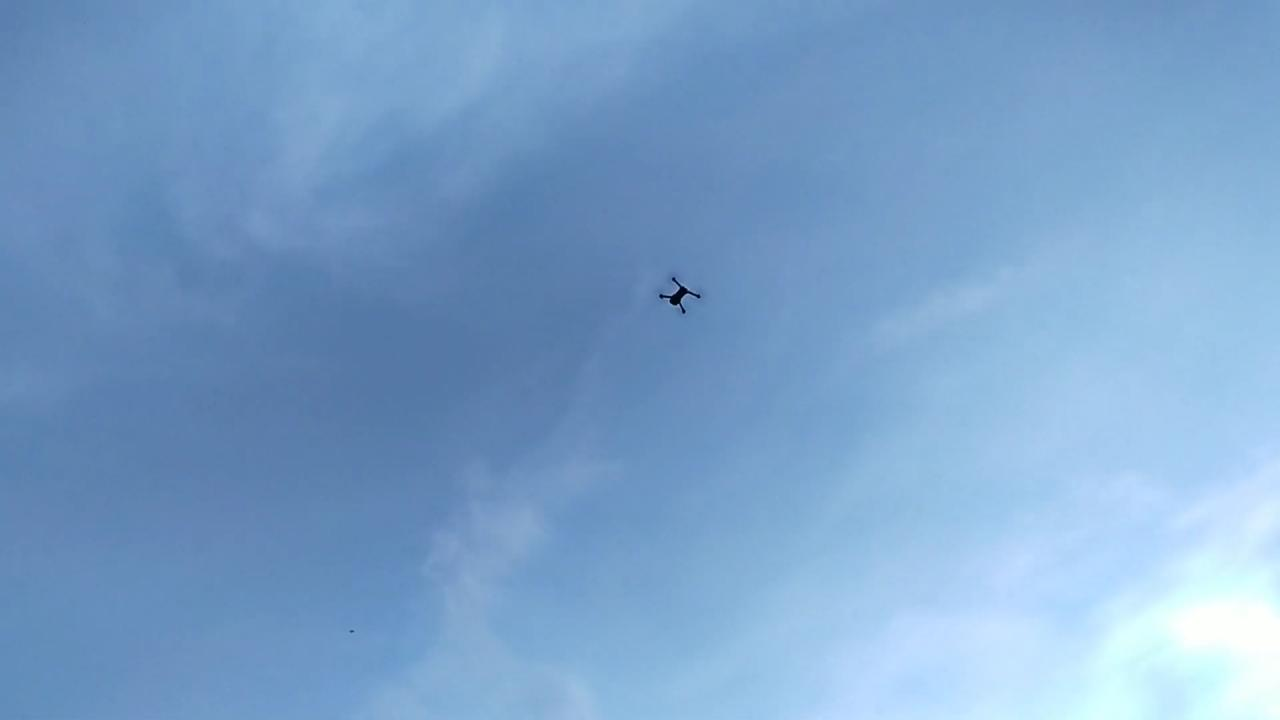Drone: (650, 267, 711, 322)
